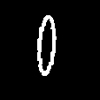chain: (37, 15, 55, 75)
